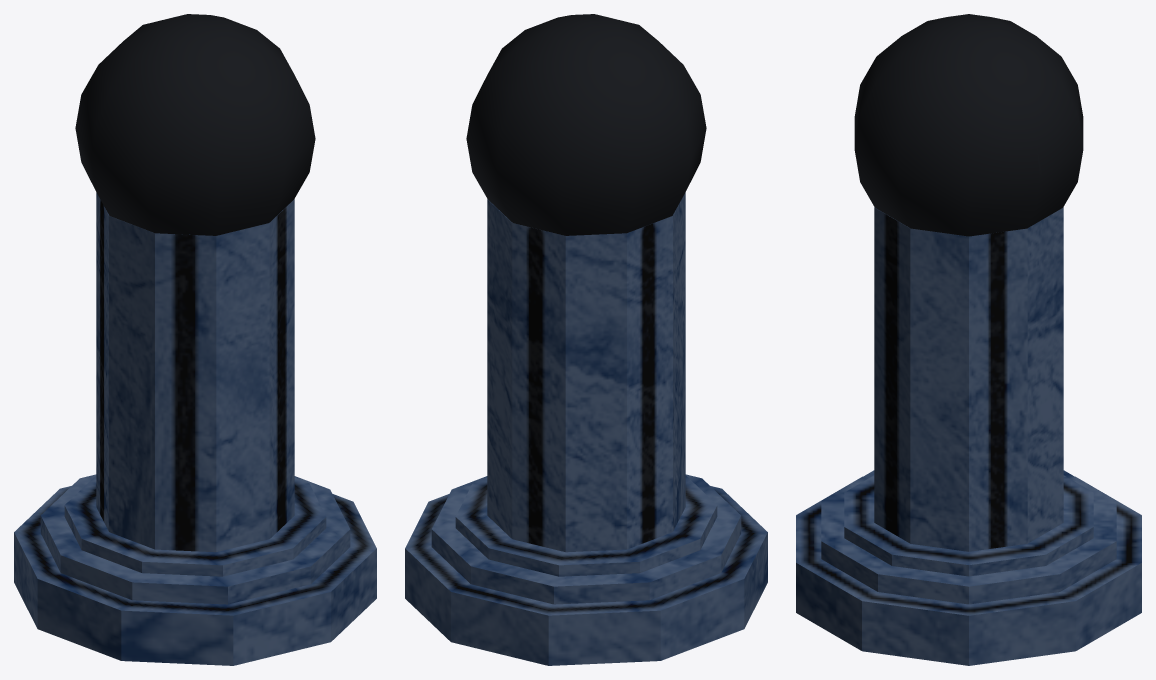
The model's file is switch.fbx.
3 renders of one model, left to right at view 1: azimuth 30°, elevation 25°; view 2: azimuth 150°, elevation 25°; view 3: azimuth 270°, elevation 25°, orthographic.
Parts seen in each view (by area): view 1: polySurface225; view 2: polySurface225; view 3: polySurface225.
Part boxes in pixels (x1,y1,x2,y2): polySurface225: (14, 14, 376, 665); polySurface225: (405, 14, 767, 665); polySurface225: (796, 14, 1141, 665).
Bounding box in the file's own units: 83.63 × 143 × 79.53.
